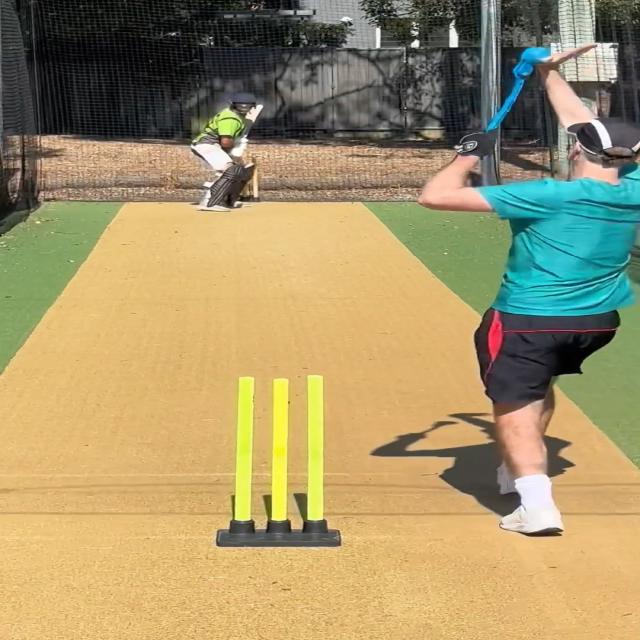stump: (220, 369, 344, 547)
